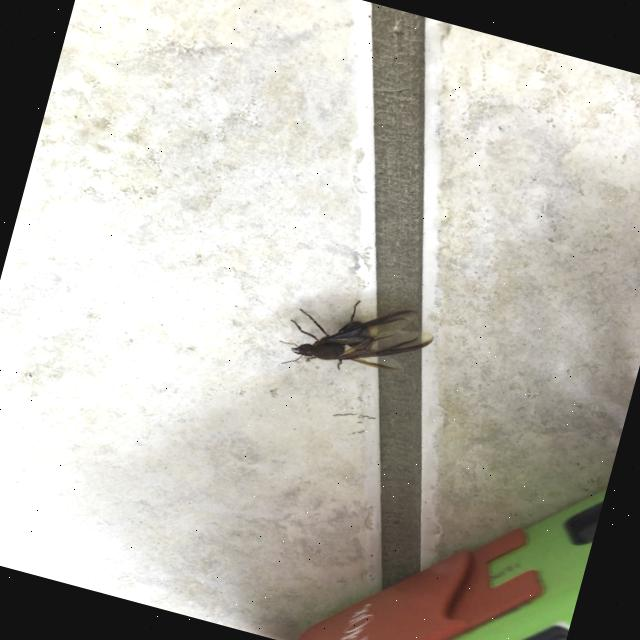Alive-Female-Alate: (273, 278, 440, 400)
